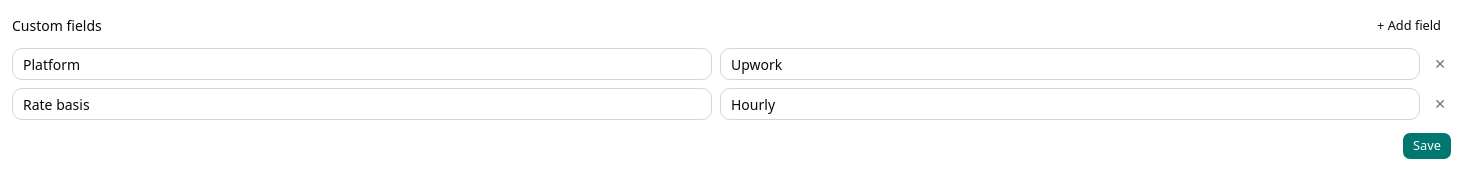
CustomFieldsSection › removes only the row whose remove button was clicked
This screenshot has width=1464, height=176.
Click the button named "Remove field" at (1440, 64), box x1=1428 y1=52 x2=1452 y2=76
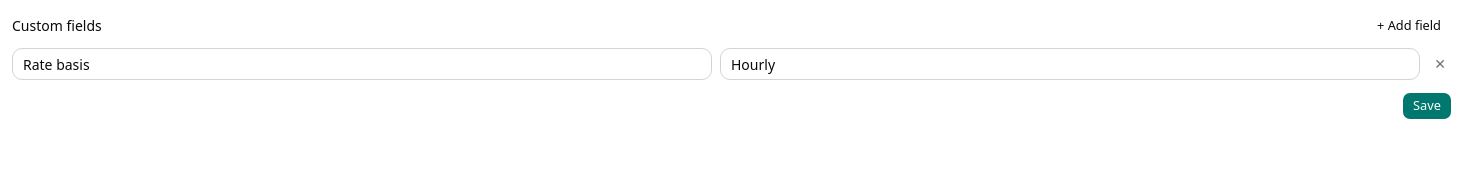
Expected: the field showing "Platform" is not shown
Expected: the 1st field showing "Rate basis" is shown, x1=12 y1=48 x2=712 y2=80
